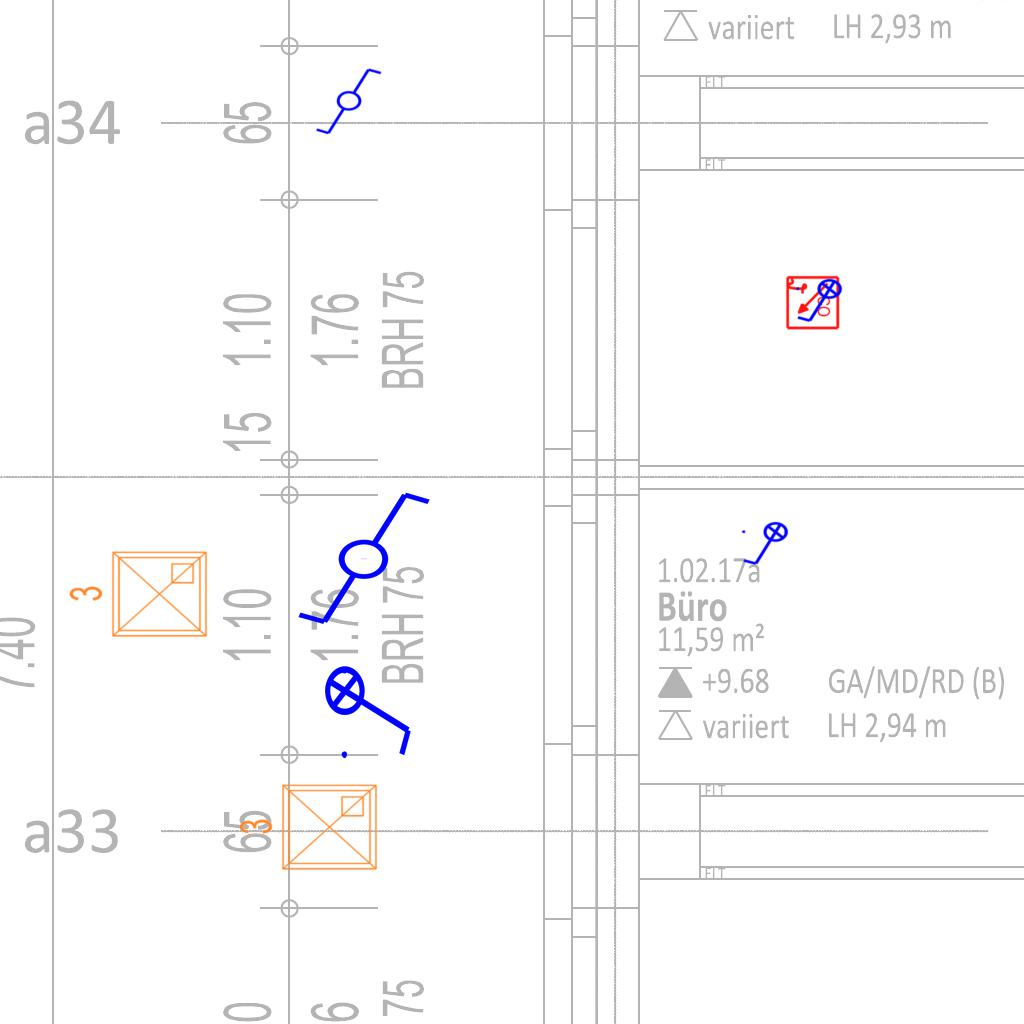Ausschalter_beleuchtet: (323, 652, 419, 764), (739, 521, 795, 569), (793, 278, 849, 326)
Einbaudownlights_LED_Konferenzraeume: (234, 777, 384, 881), (64, 544, 214, 648)
ROA_Rauchmelder_optisch_mit_Signalgeber_(Sockelsirene): (784, 275, 840, 331)
Wechselschalter: (277, 485, 434, 629), (314, 66, 392, 138)
